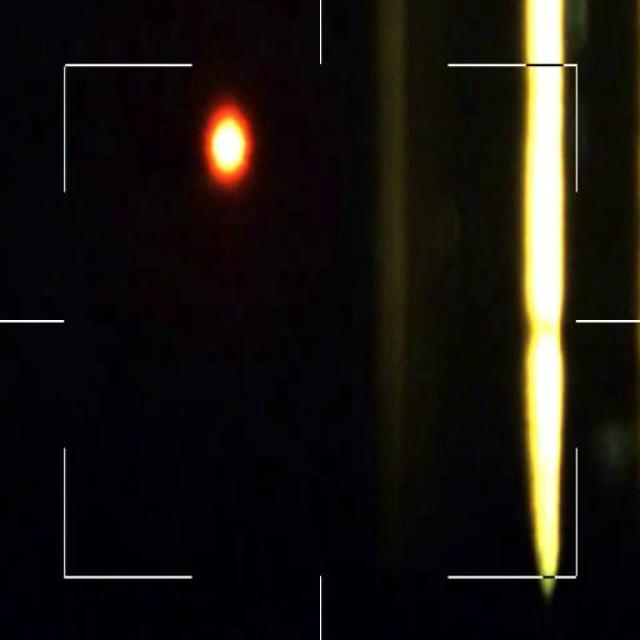bird: (201, 101, 251, 178)
